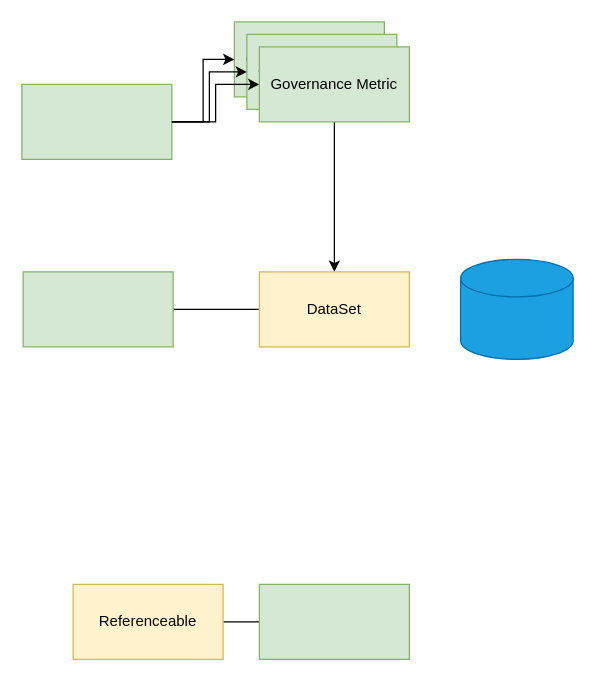
The diagram is 595 pixels wide and 681 high, and some of its shapes have lost their labels. Each missing label, with the centre of its shape:
"Governance Definition" goes at [96,121].
"Governance Measurements" goes at [333,621].
"Governance Measurements DataSet" goes at [97,309].
